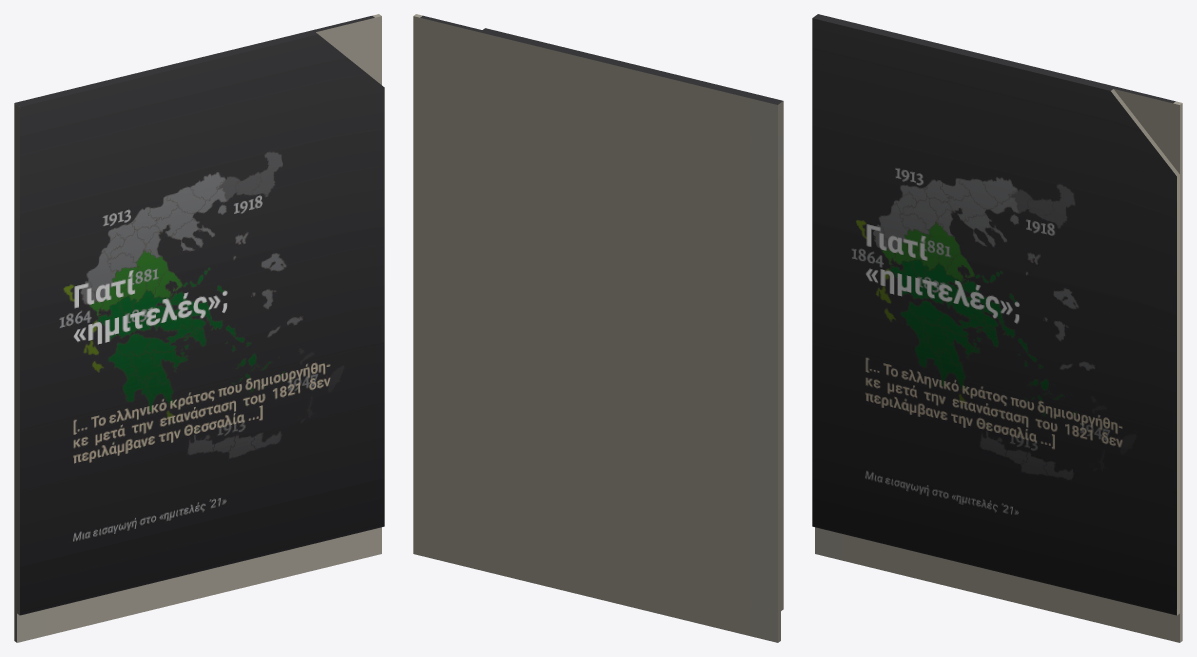
File: room00.glb
3 renders of one model, left to right at view 1: azimuth 30°, elevation 25°; view 2: azimuth 150°, elevation 25°; view 3: azimuth 330°, elevation 25°, orthographic.
Parts seen in each view (by area): view 1: tabr00; view 2: tabr00; view 3: tabr00.
Part boxes in pixels (x1=…): tabr00: x1=14, y1=14, x2=384, y2=642; tabr00: x1=413, y1=14, x2=783, y2=642; tabr00: x1=812, y1=14, x2=1182, y2=642.
Size of what is drawn, in the model's own units: 2.2 by 3.1 by 0.06.
Materials: 1 (1 with a texture image).
